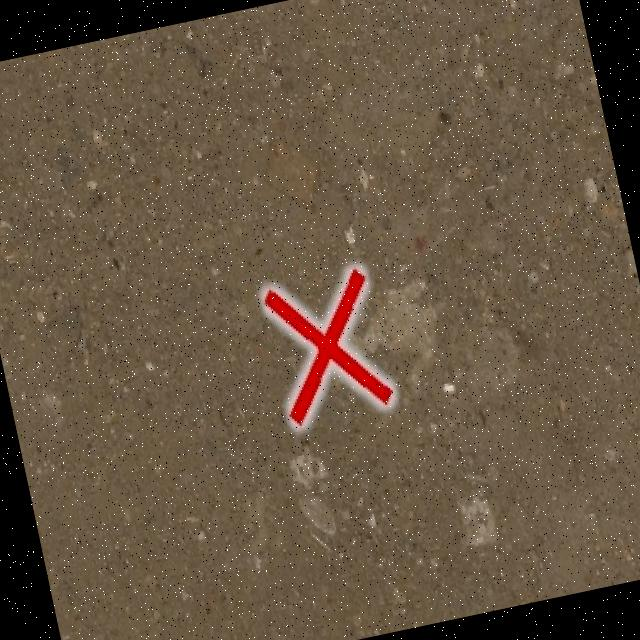x_marker: (261, 266, 394, 426)
